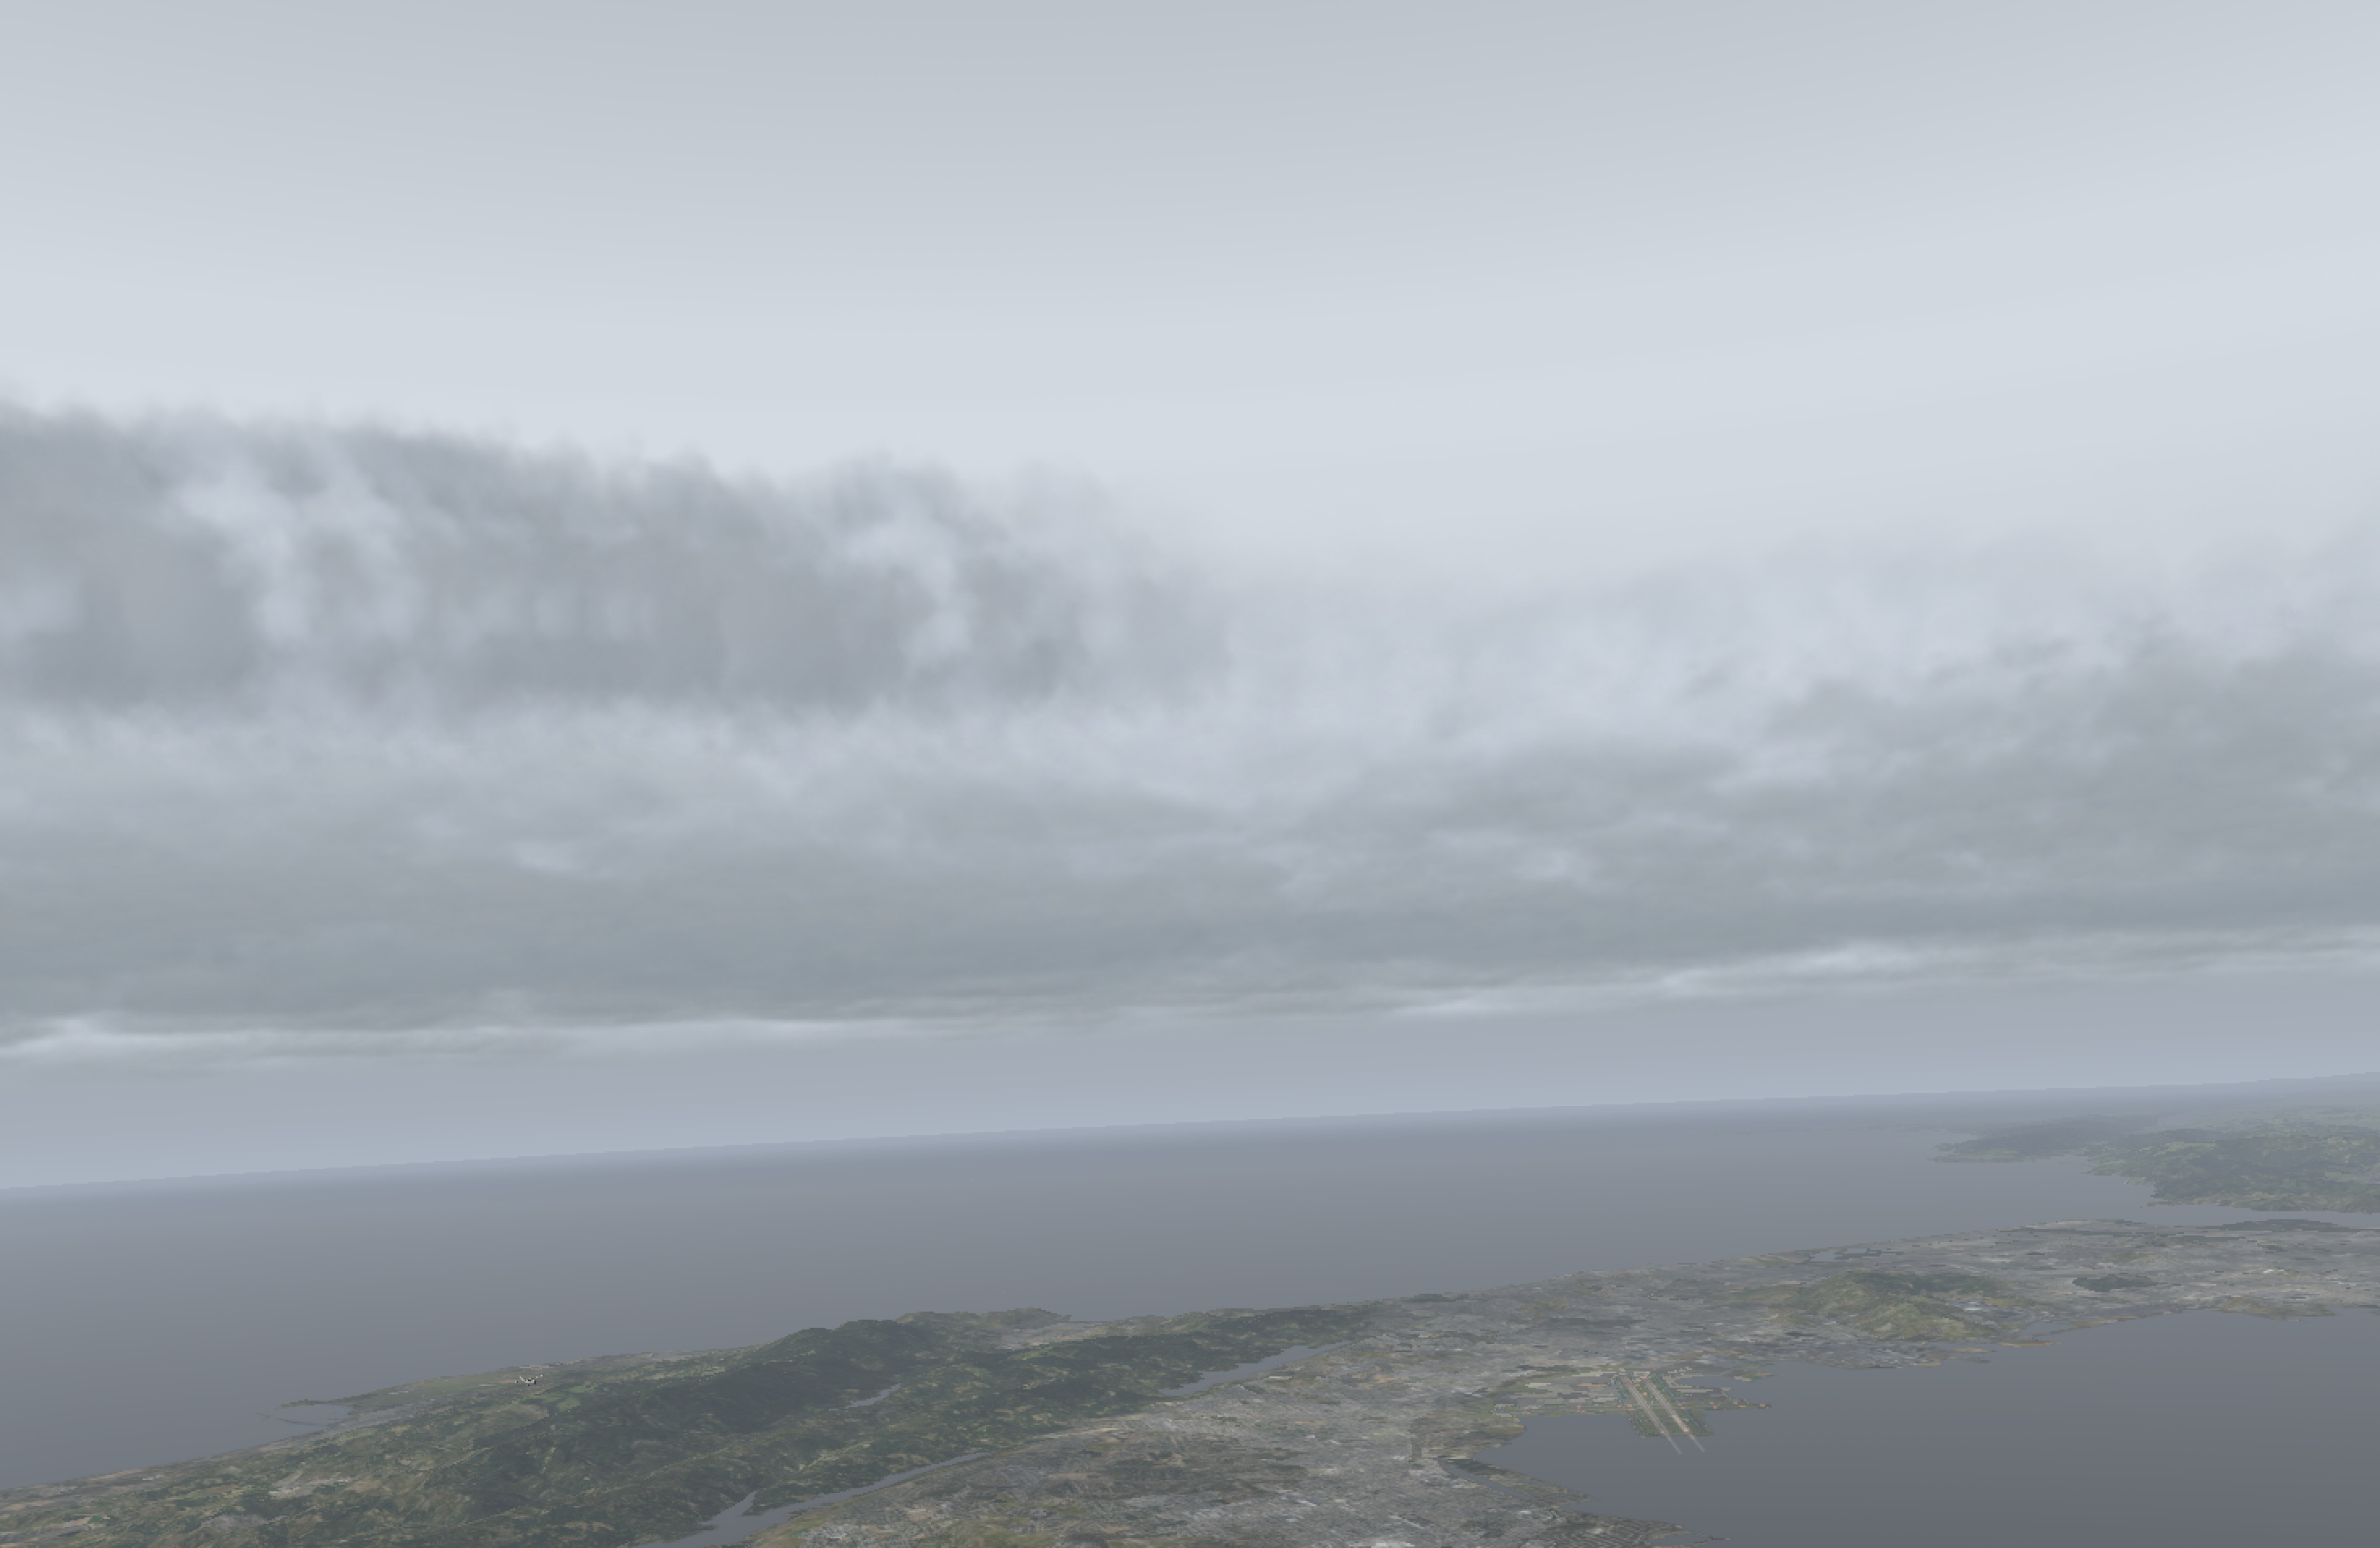aircraft: (520, 1376, 545, 1385)
